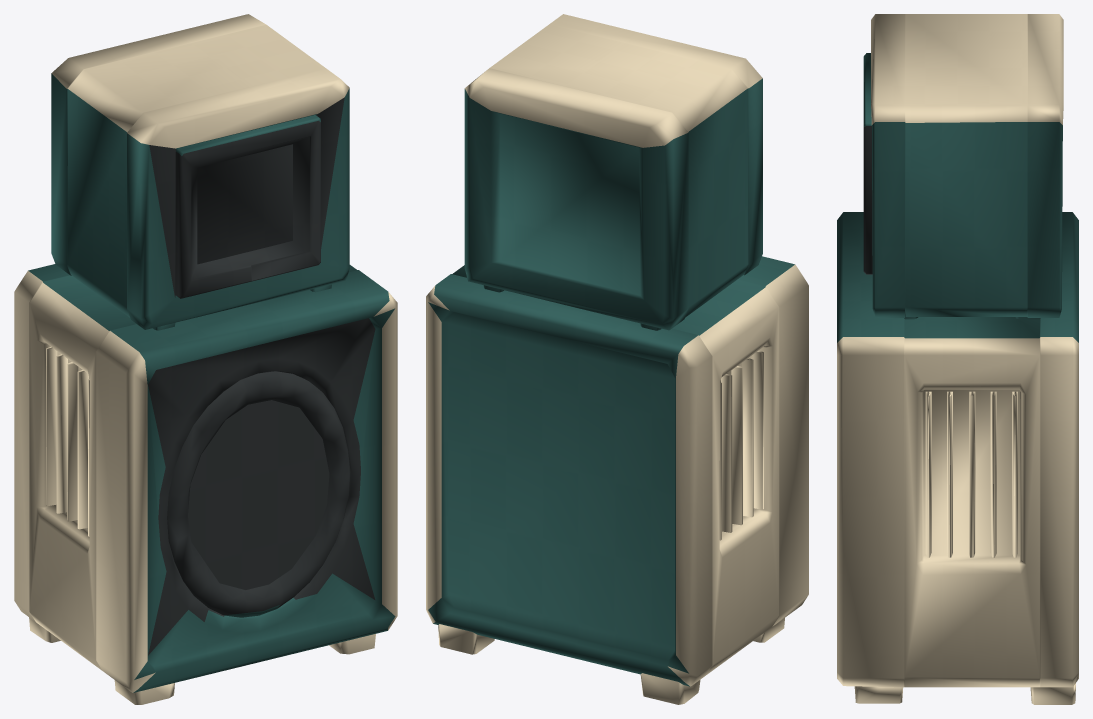
Rendered from H02_atlas_v1.glb.
3 renders of one model, left to right at view 1: azimuth 30°, elevation 25°; view 2: azimuth 150°, elevation 25°; view 3: azimuth 270°, elevation 25°, orthographic. The views are drawn at different scales.
Visible parts, largest first — view 1: H02_Geometry; view 2: H02_Geometry; view 3: H02_Geometry.
Part boxes in pixels (box(x1,y1,x2,y2)): H02_Geometry: box(14, 14, 397, 704); H02_Geometry: box(426, 14, 808, 704); H02_Geometry: box(837, 14, 1078, 704).
Bounding box in the file's own units: 4 × 8 × 3.
1 material, 1 textured.
